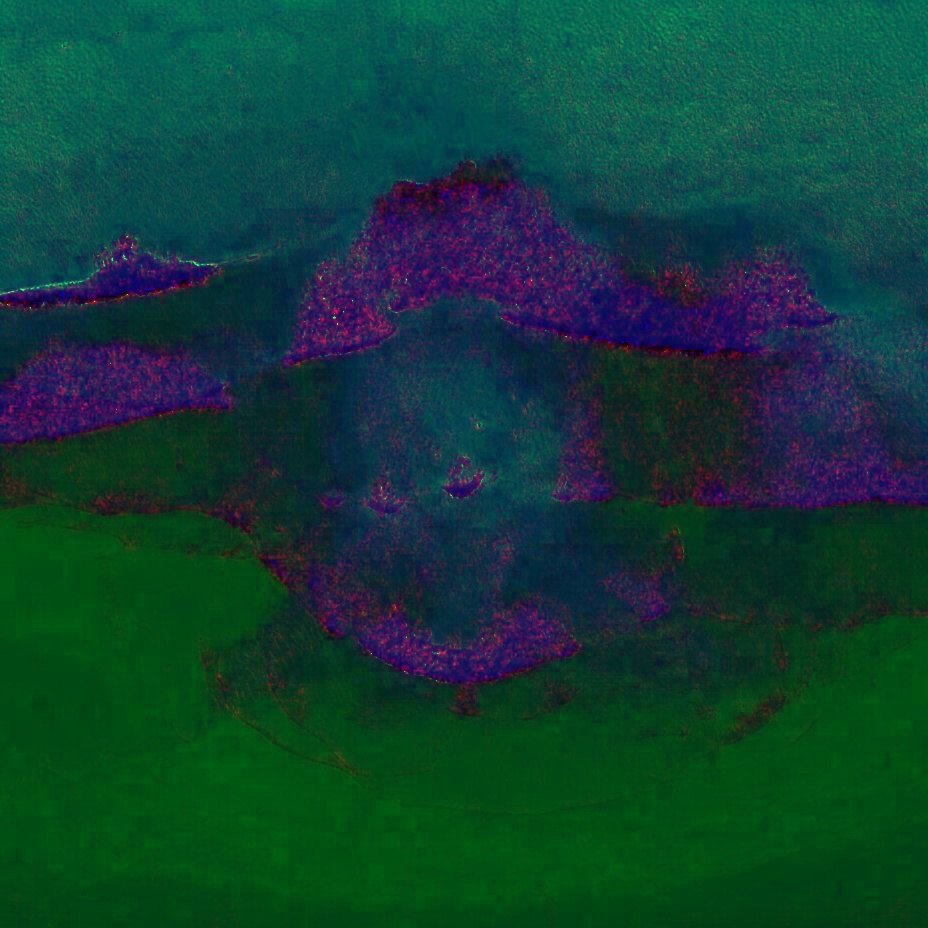rip_current: (262, 112, 631, 658)
